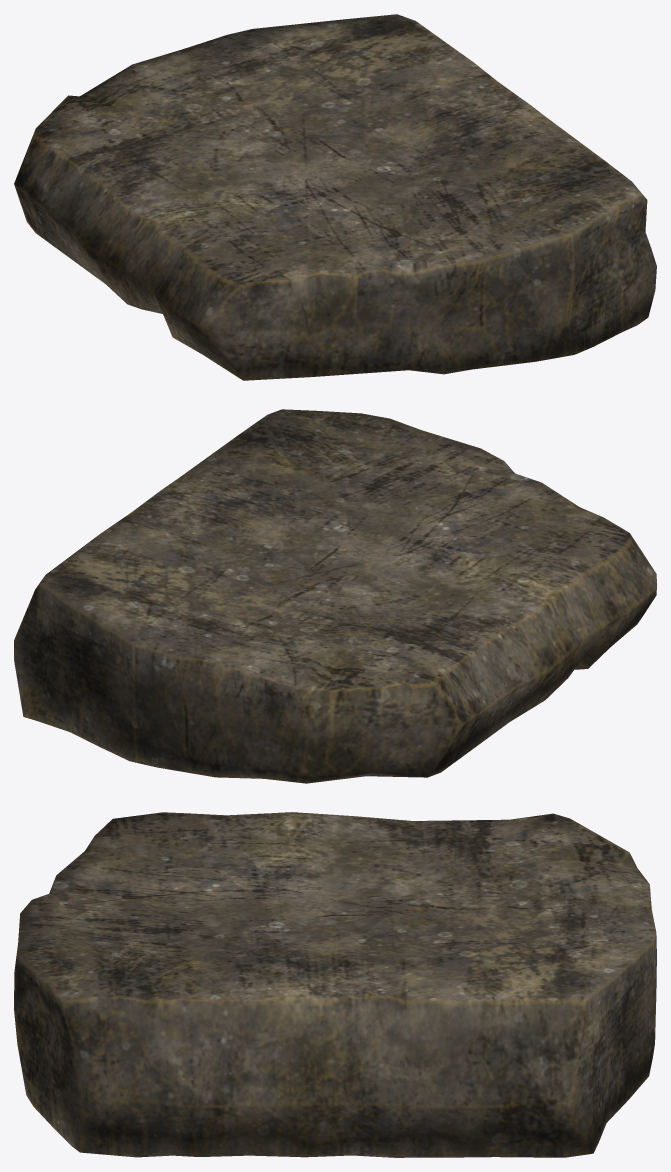
The model's file is FlatRock_02.fbx.
3 views of the same model, one above another, from view 1: azimuth 30°, elevation 25°; view 2: azimuth 150°, elevation 25°; view 3: azimuth 270°, elevation 25° (orthographic). The views are drawn at different scales.
Visible parts, largest first — view 1: FlatRock_02; view 2: FlatRock_02; view 3: FlatRock_02.
Boxes of the visible parts, x1,y1,x2,y2 form: FlatRock_02: [14, 14, 656, 380]; FlatRock_02: [14, 409, 656, 783]; FlatRock_02: [14, 812, 656, 1157].
Bounding box in the file's own units: 0.708 × 0.2095 × 0.8.
1 material, 1 textured.
